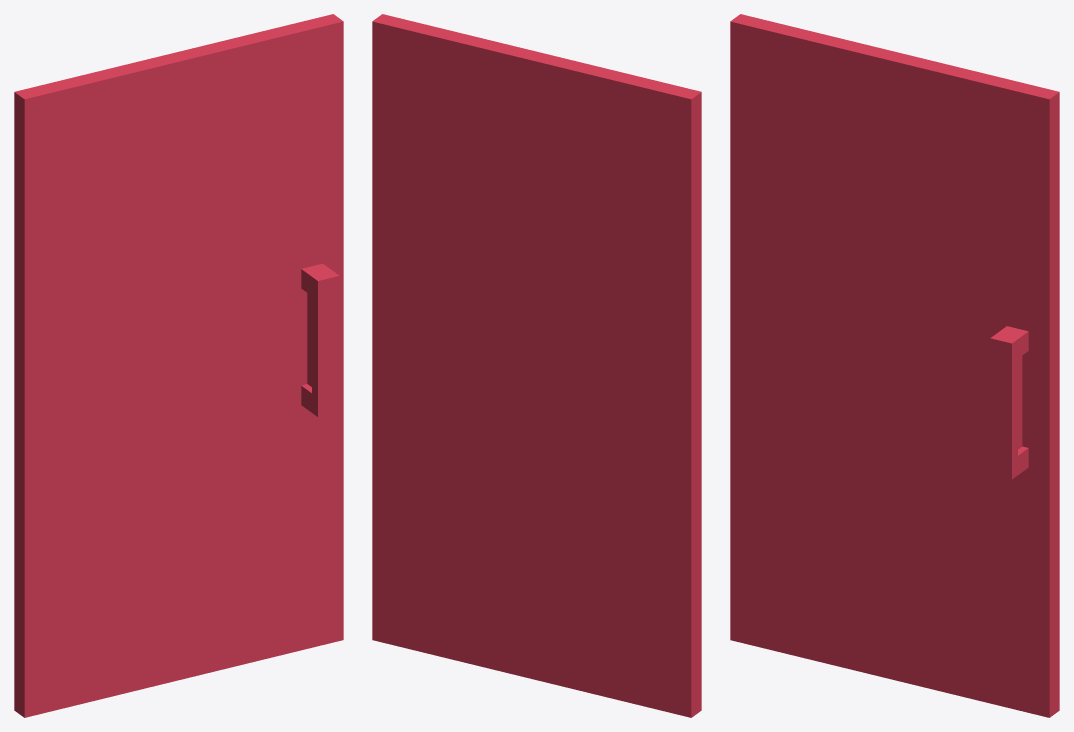
File: Itr_Shelf1_Door_Left_04.FBX
3 views of the same model, side by side, from view 1: azimuth 30°, elevation 25°; view 2: azimuth 150°, elevation 25°; view 3: azimuth 330°, elevation 25° (orthographic).
Visible parts, largest first — view 1: Itr_Shelf1_Door_Left_04; view 2: Itr_Shelf1_Door_Left_04; view 3: Itr_Shelf1_Door_Left_04.
Boxes of the visible parts, x1,y1,x2,y2 form: Itr_Shelf1_Door_Left_04: (14, 14, 343, 717); Itr_Shelf1_Door_Left_04: (372, 14, 701, 717); Itr_Shelf1_Door_Left_04: (730, 14, 1059, 717).
Bounding box in the file's own units: 22.1 × 40.92 × 3.23.
